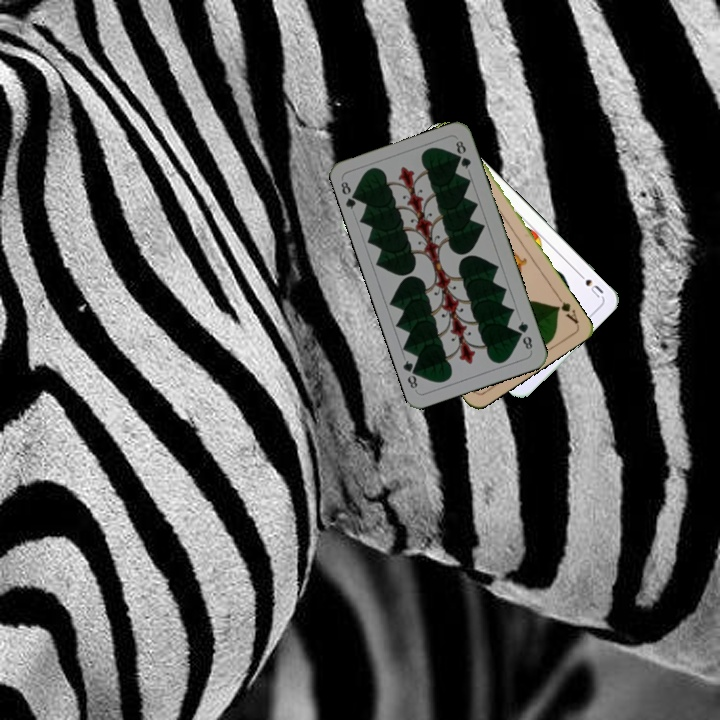G8: (336, 177, 362, 212), (514, 317, 535, 352)
GA: (552, 290, 581, 327)
SU: (573, 268, 606, 301)
